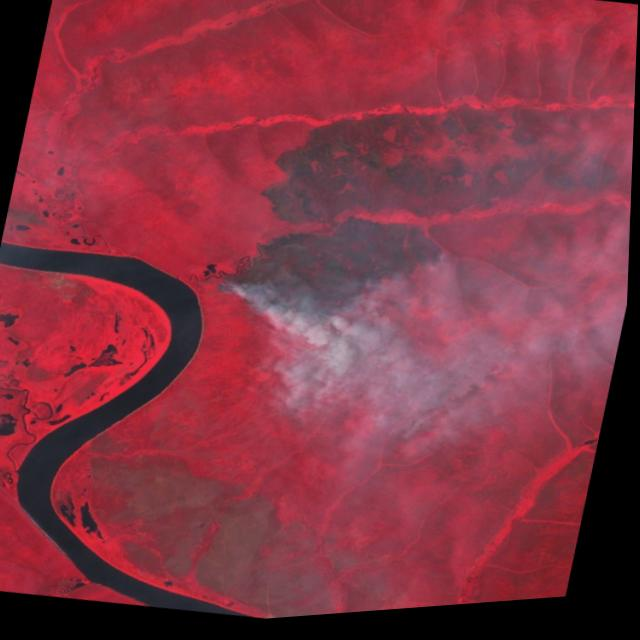fire: (202, 269, 369, 351), (423, 251, 455, 280)
